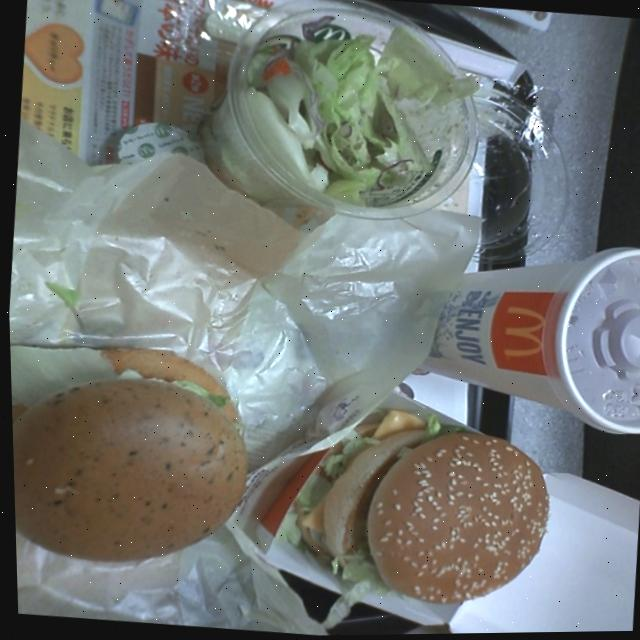汉堡快餐: (8, 321, 271, 586), (248, 402, 568, 619)
